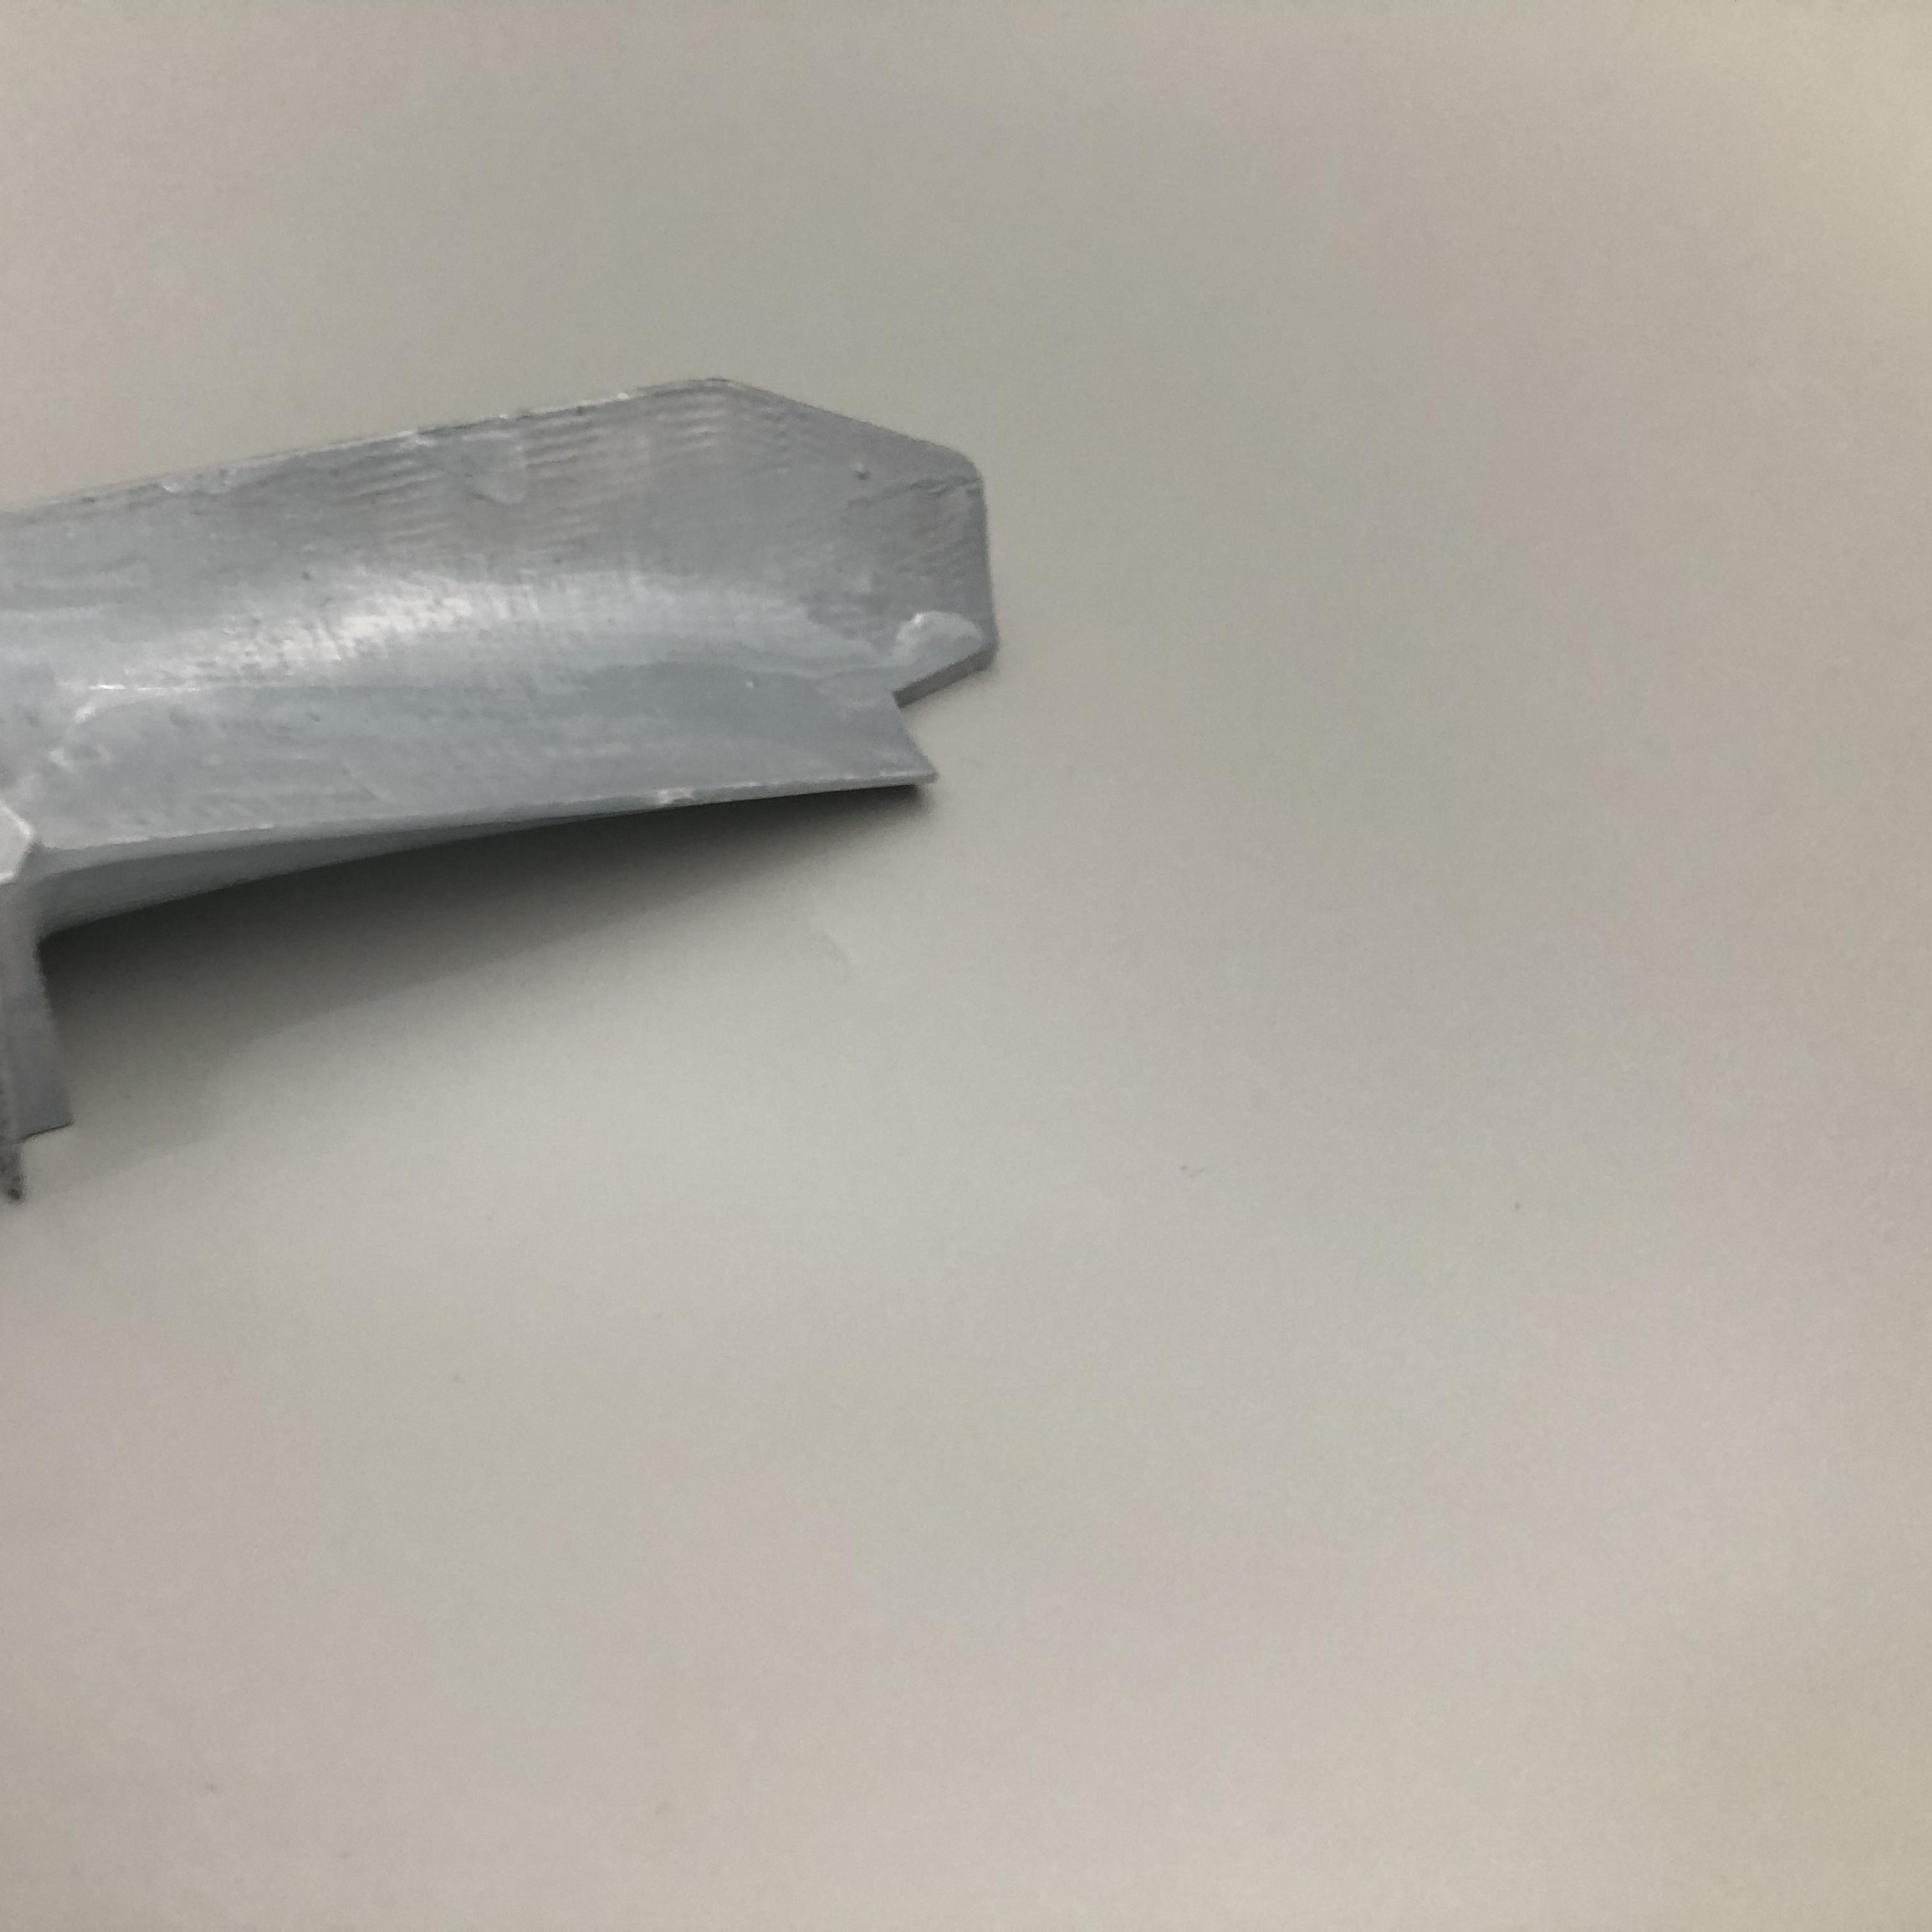fracture: (878, 662, 998, 796)
